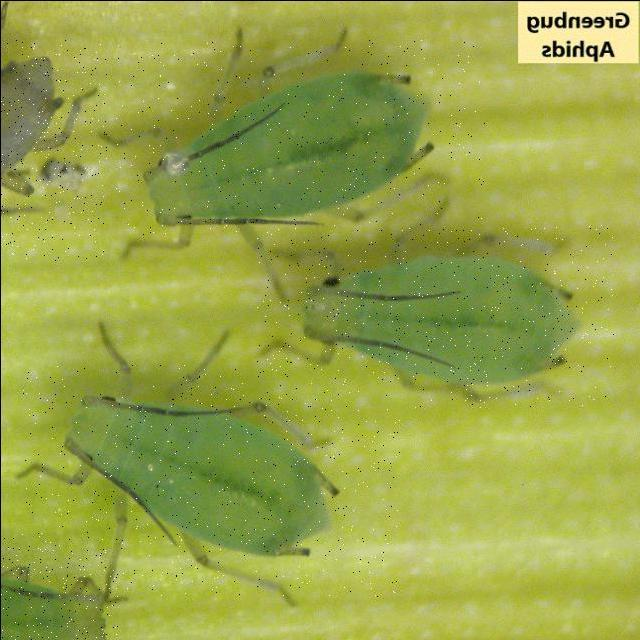aphid: (21, 364, 399, 596), (115, 39, 484, 234), (256, 222, 616, 408), (0, 37, 106, 260), (0, 537, 118, 640)
